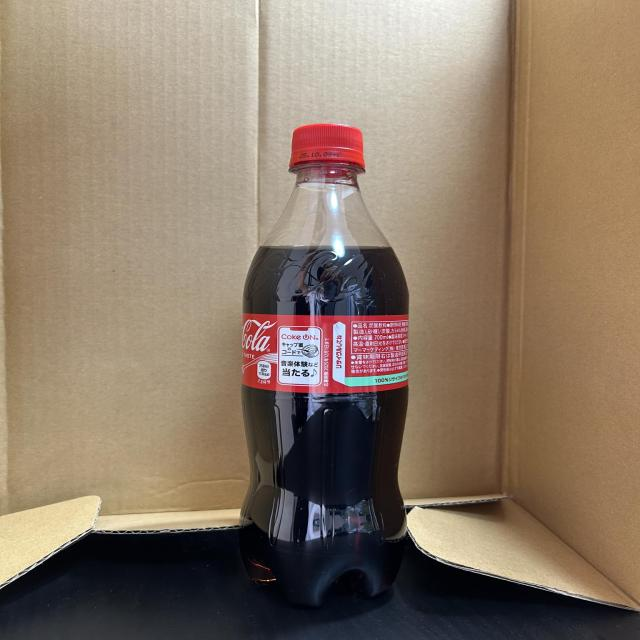high: (241, 124, 409, 606)
